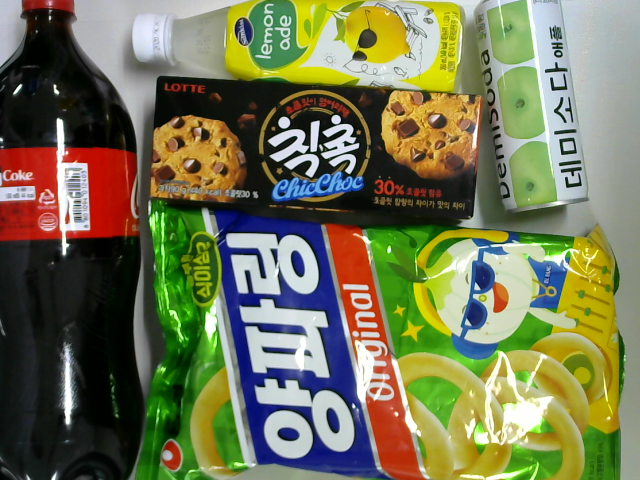Chicchok_Original_2400: (147, 75, 485, 214)
Coca_Cola_1.5L: (1, 1, 146, 480)
Demisoda_Apple_Can_250ml: (473, 1, 591, 215)
Oninon_Ring: (129, 197, 627, 480)
Sunkist_Lemonaid_Pet: (131, 1, 466, 90)
